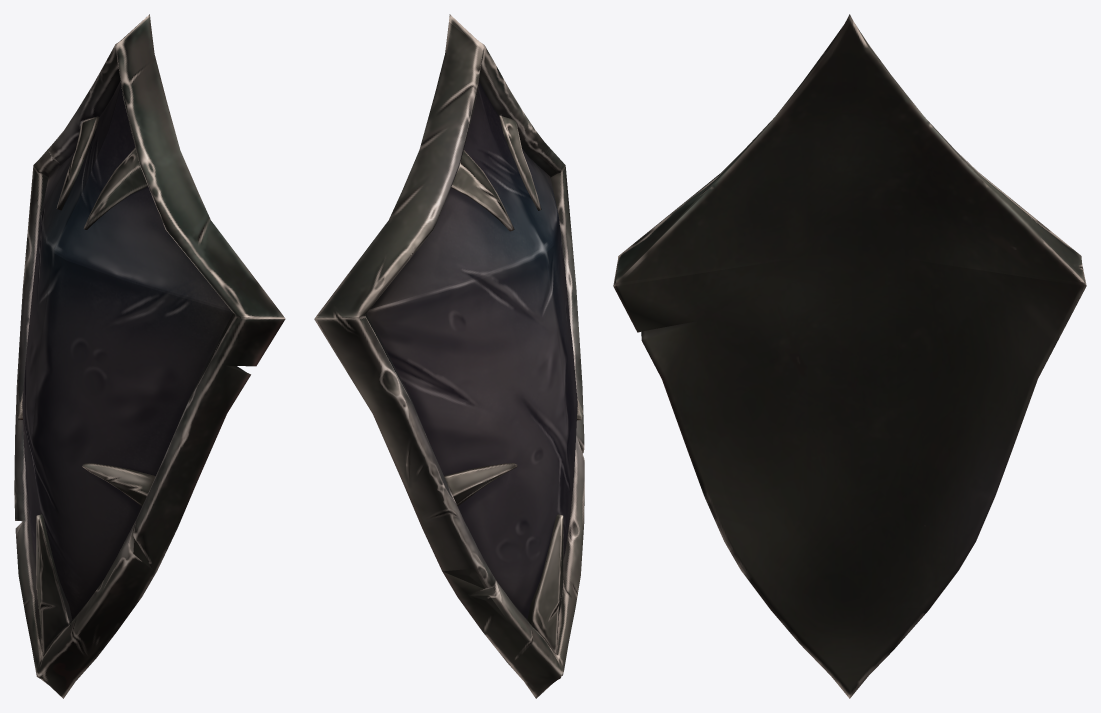
File: sm_skortched_tesset_R.gltf
3 renders of one model, left to right at view 1: azimuth 30°, elevation 25°; view 2: azimuth 150°, elevation 25°; view 3: azimuth 270°, elevation 25°, orthographic. The views are drawn at different scales.
Visible parts, largest first — view 1: sm_skortched_tasset_R; view 2: sm_skortched_tasset_R; view 3: sm_skortched_tasset_R.
Part boxes in pixels (bbox=[...]): sm_skortched_tasset_R: bbox=[14, 14, 285, 698]; sm_skortched_tasset_R: bbox=[314, 14, 584, 698]; sm_skortched_tasset_R: bbox=[613, 14, 1086, 698].
Bounding box in the file's own units: 0.1103 × 0.4787 × 0.2808.
1 material, 1 textured.
